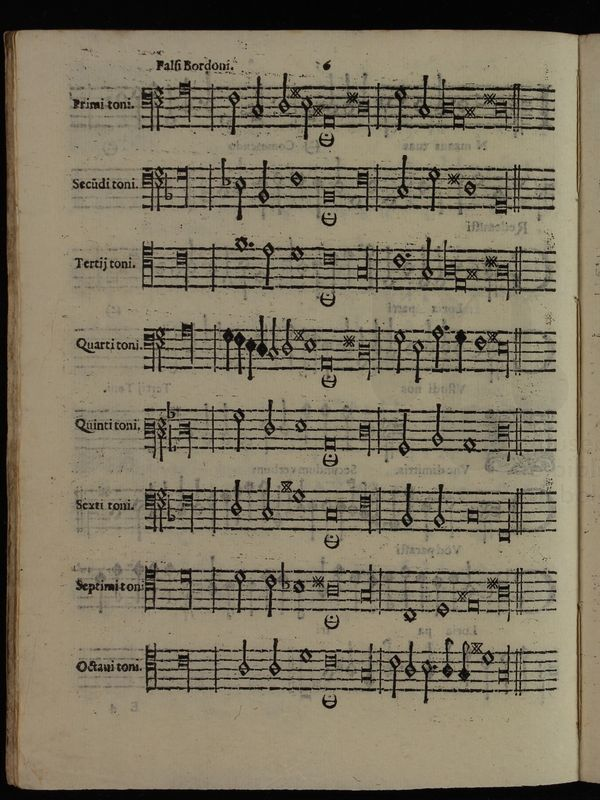otherpage: (575, 10, 600, 796)
staff: (130, 78, 563, 145), (132, 153, 565, 220), (133, 229, 566, 296), (126, 318, 559, 385), (134, 394, 567, 461), (138, 472, 571, 539), (135, 555, 568, 622), (132, 638, 565, 705)
